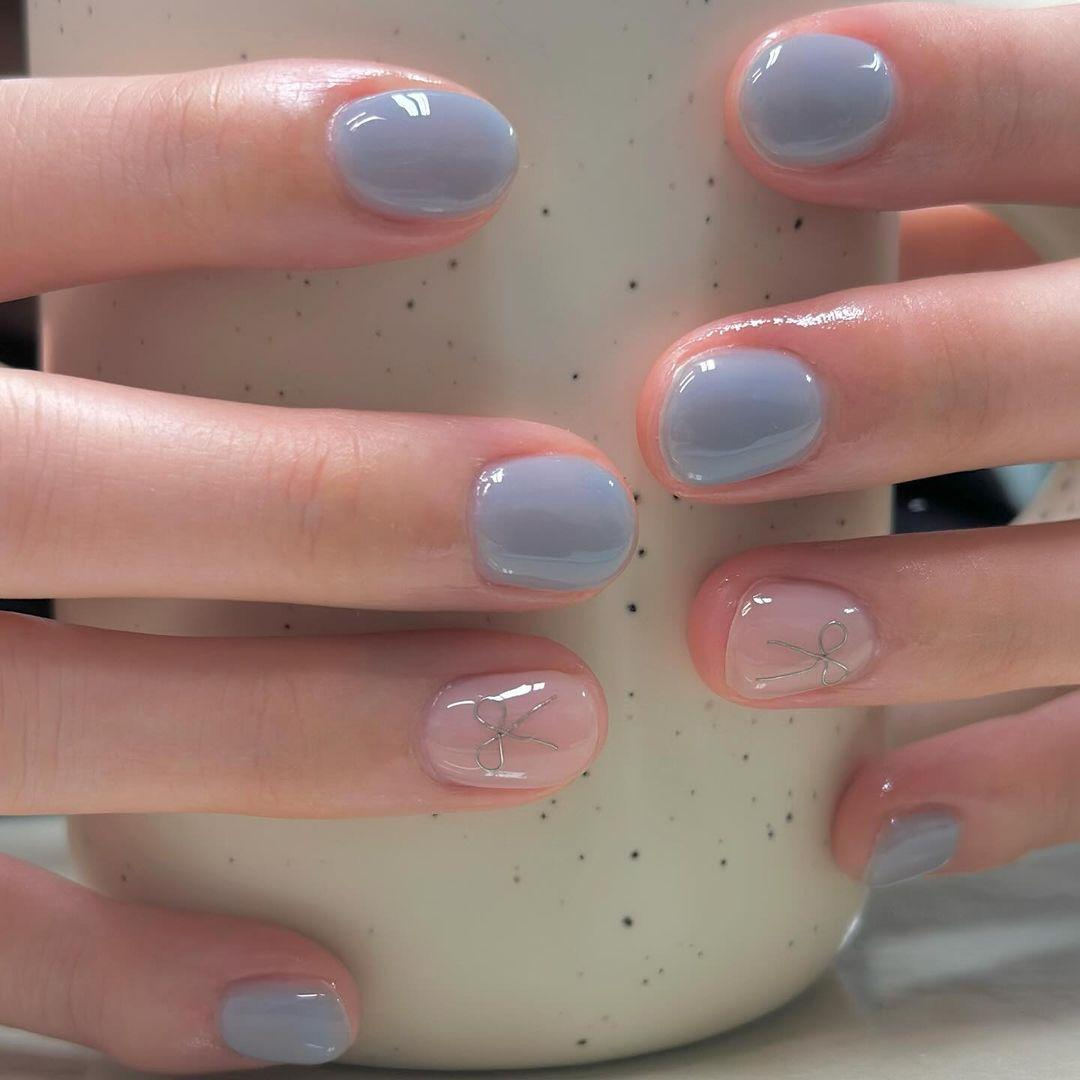nail: (0, 55, 520, 303), (325, 84, 519, 222), (655, 341, 828, 491), (467, 448, 637, 594), (415, 664, 606, 793), (736, 28, 895, 171), (722, 573, 880, 700), (216, 971, 354, 1066), (862, 801, 962, 889)
